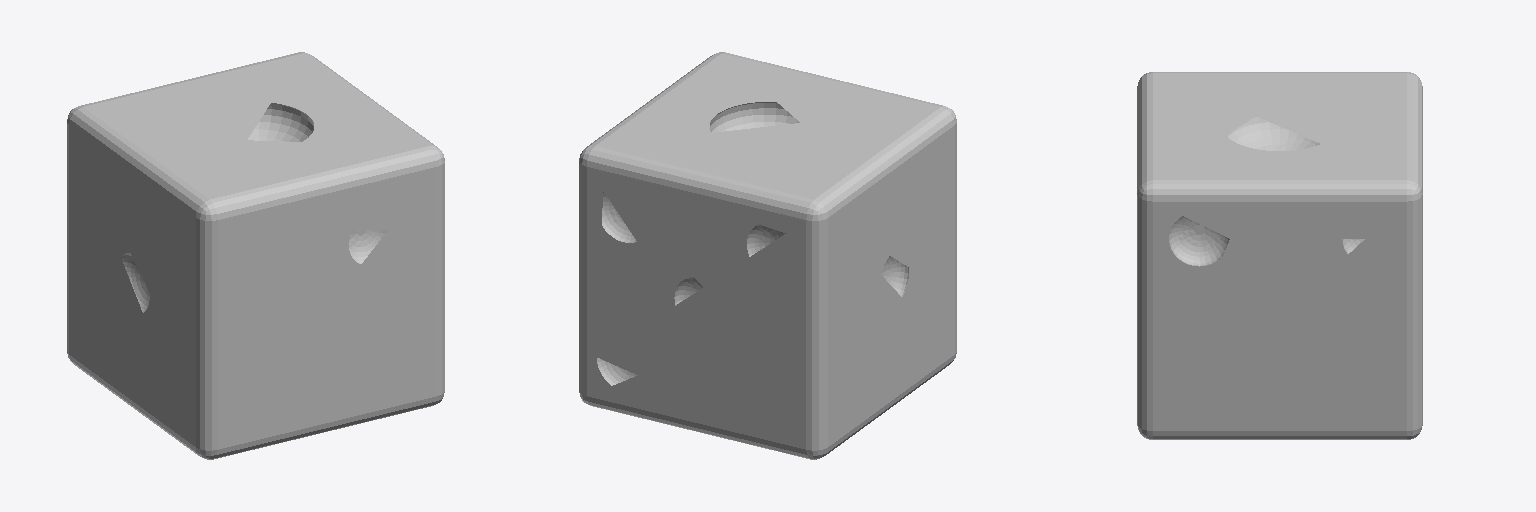
File: low-poly-dice.obj
The picture shows the model from 3 angles: view 1: azimuth 30°, elevation 25°; view 2: azimuth 150°, elevation 25°; view 3: azimuth 270°, elevation 25°; orthographic projection.
Visible parts, largest first — view 1: Cube; view 2: Cube; view 3: Cube.
Part boxes in pixels (left/top/right/bottom): Cube: left=67, top=52, right=444, bottom=459; Cube: left=579, top=52, right=956, bottom=459; Cube: left=1137, top=72, right=1422, bottom=439.
Bounding box in the file's own units: 2 × 2 × 2.